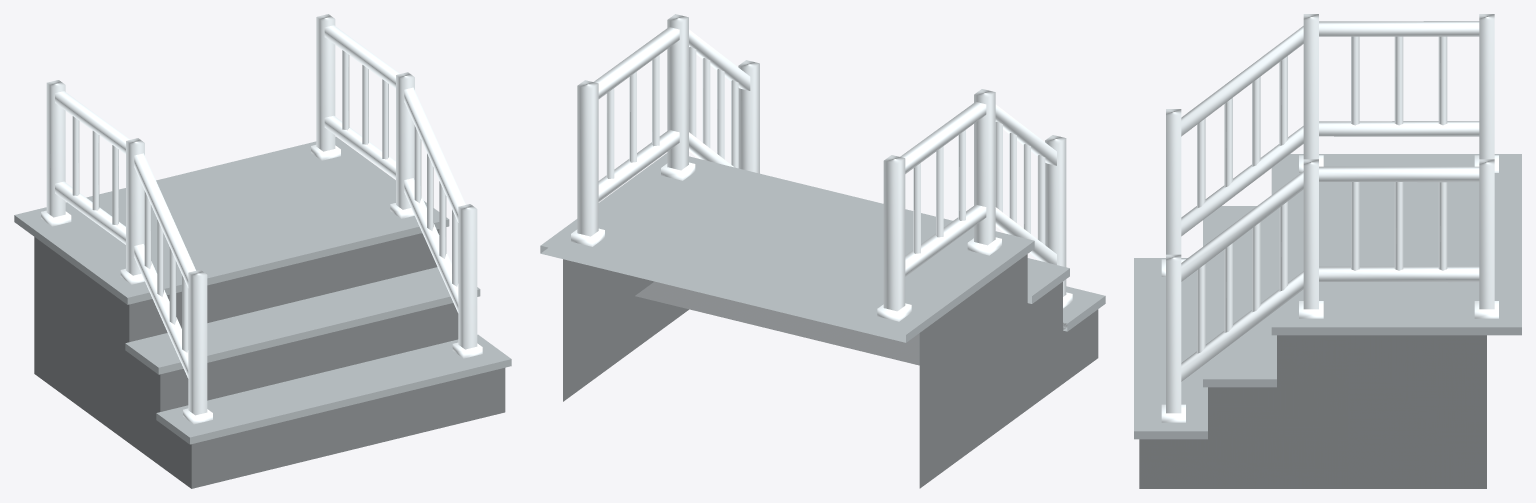
File: Stairs_04.glb
3 renders of one model, left to right at view 1: azimuth 30°, elevation 25°; view 2: azimuth 150°, elevation 25°; view 3: azimuth 270°, elevation 25°, orthographic. The views are drawn at different scales.
Visible parts, largest first — view 1: Stairs_04; view 2: Stairs_04; view 3: Stairs_04.
Boxes of the visible parts, x1,y1,x2,y2 form: Stairs_04: [14, 14, 511, 488]; Stairs_04: [540, 14, 1105, 488]; Stairs_04: [1134, 14, 1521, 488].
Bounding box in the file's own units: 2.39 × 2.02 × 2.25.
1 material, 1 textured.
